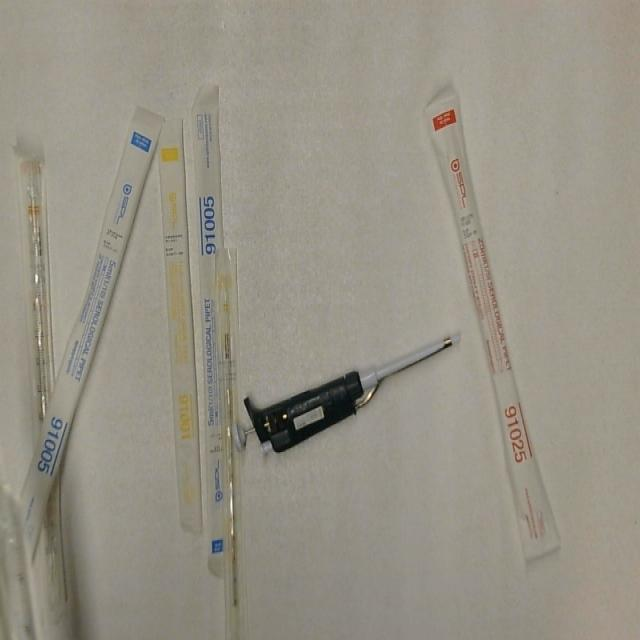Serelogical Pipet 1 mL: (157, 106, 205, 537), (213, 237, 247, 640)
Serelogical Pipet 10 mL: (16, 142, 57, 444)
Serelogical Pipet 25 mL: (422, 85, 566, 572)
Serelogical Pipet 5 mL: (19, 94, 166, 560), (192, 80, 241, 584)
Single Channel Pipettor: (226, 325, 466, 462)
